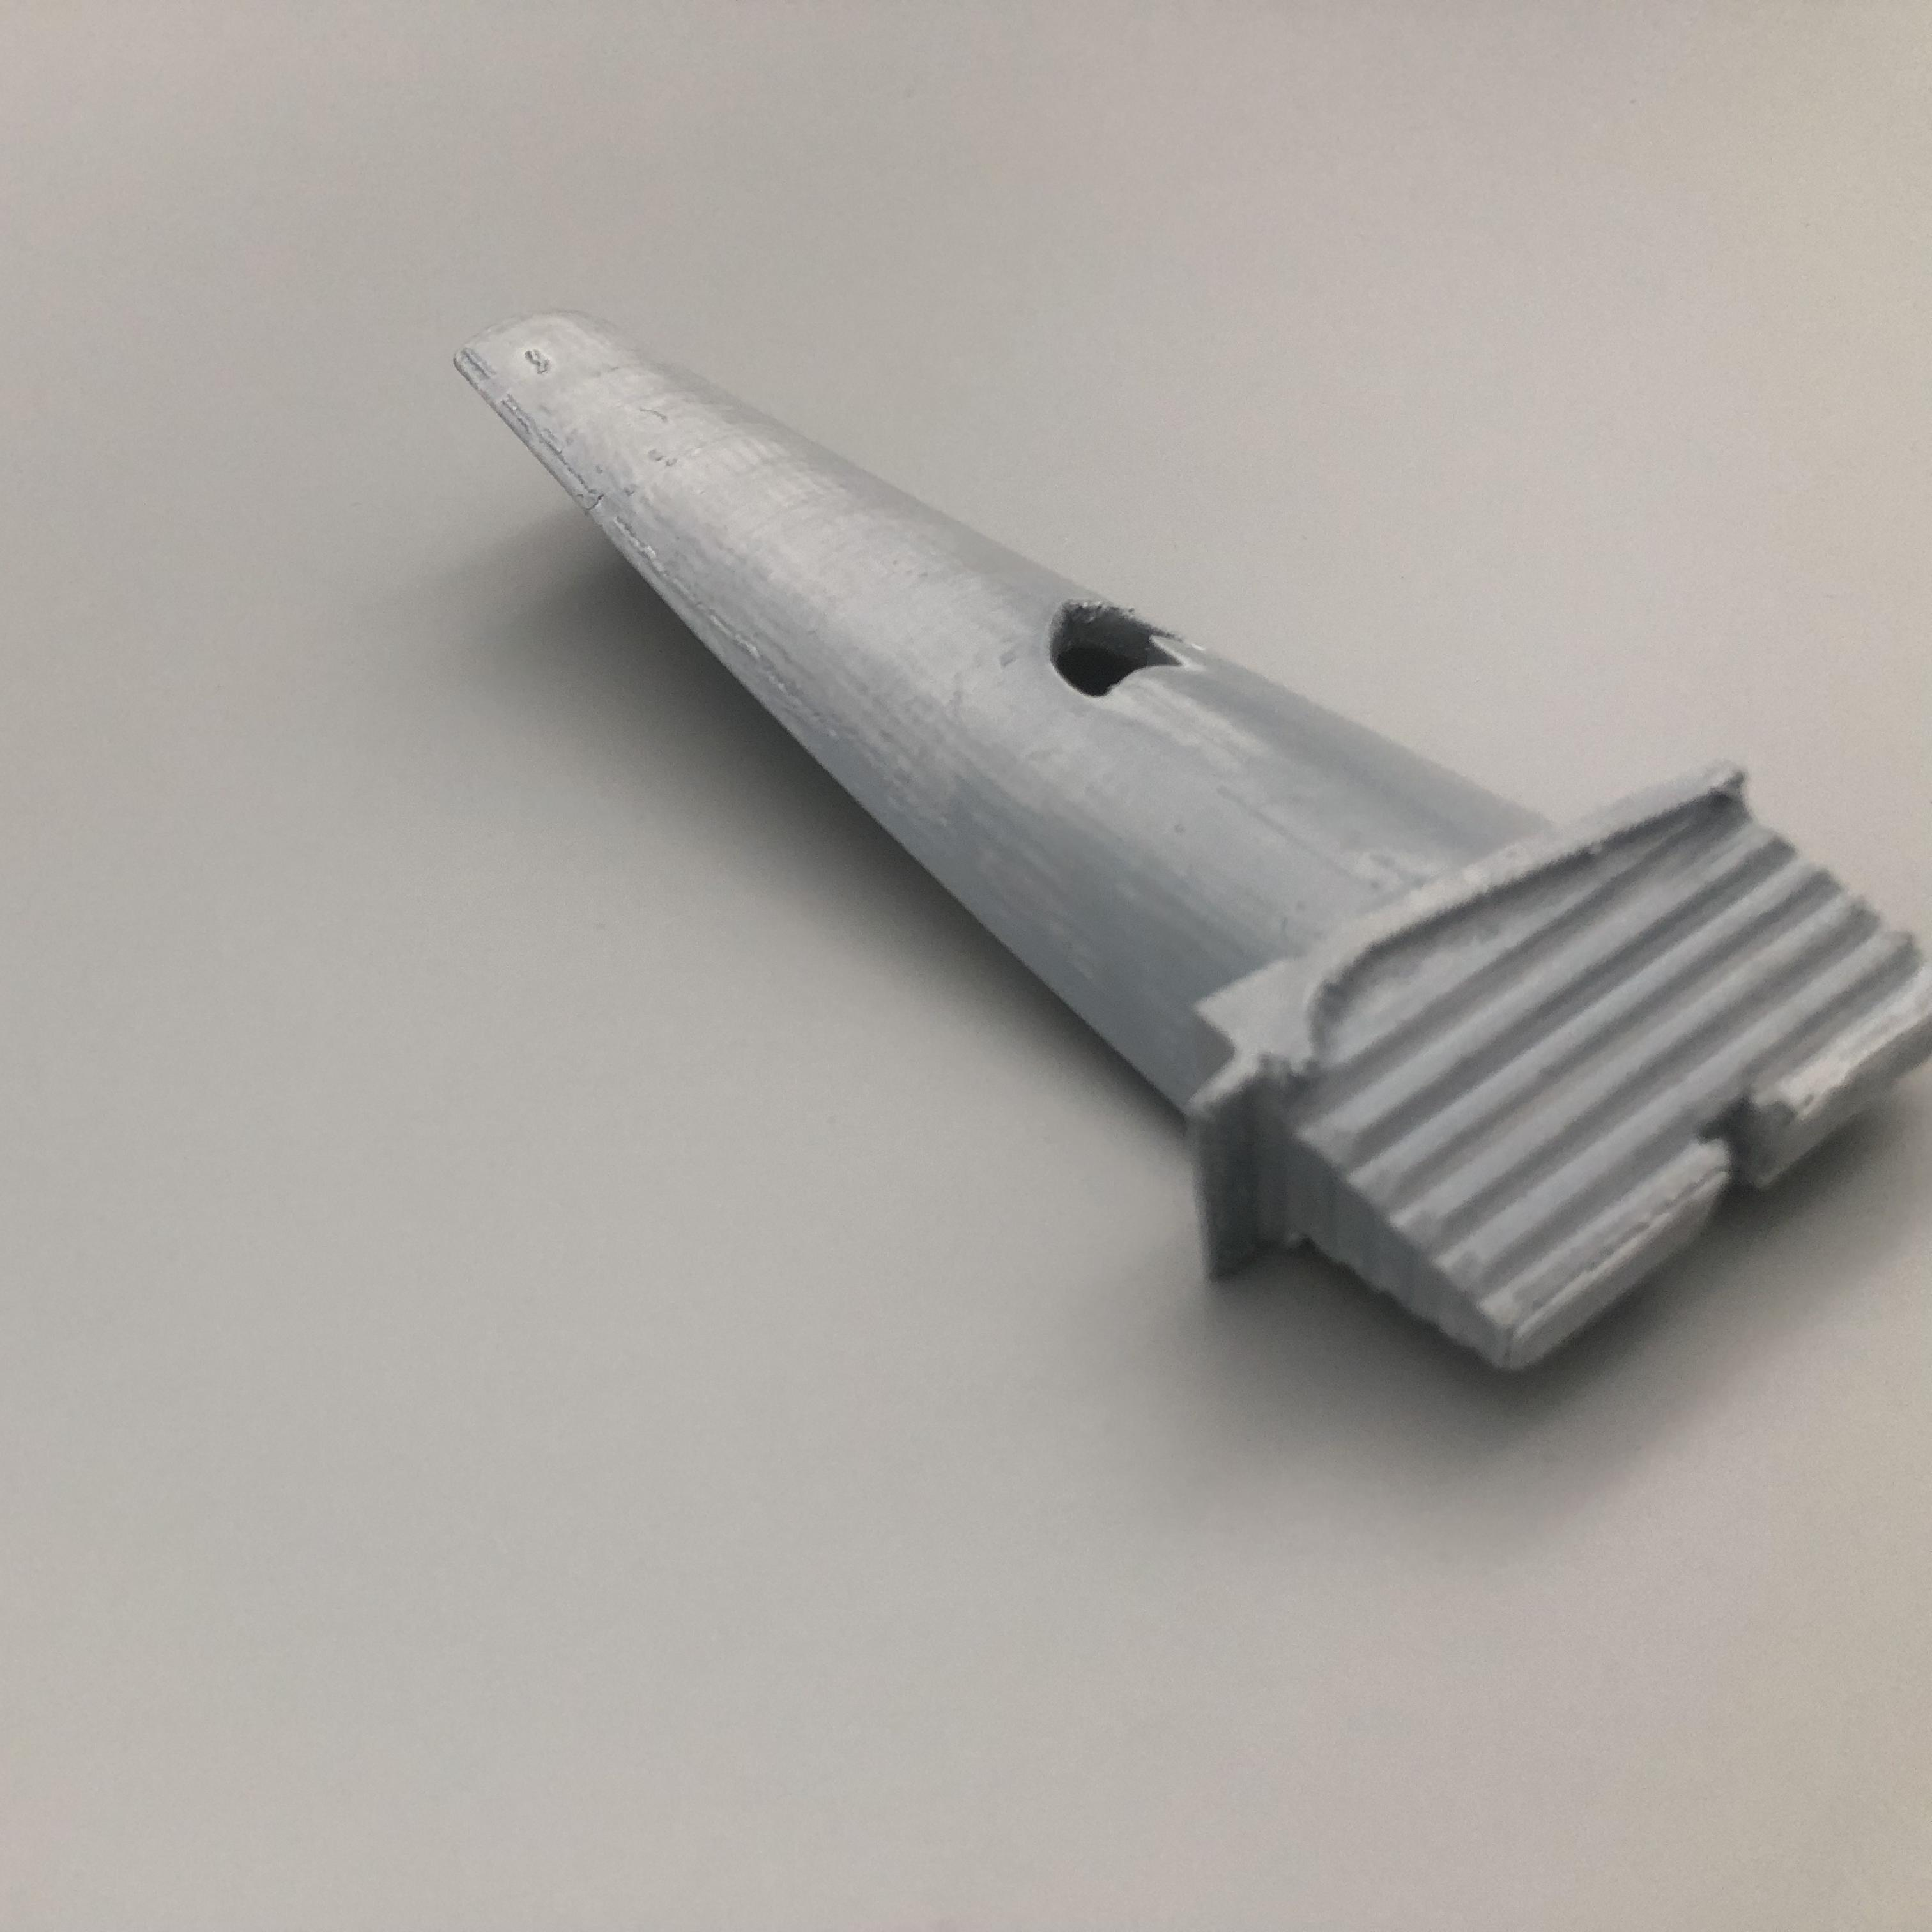breakdown: (1031, 584, 1207, 701)
